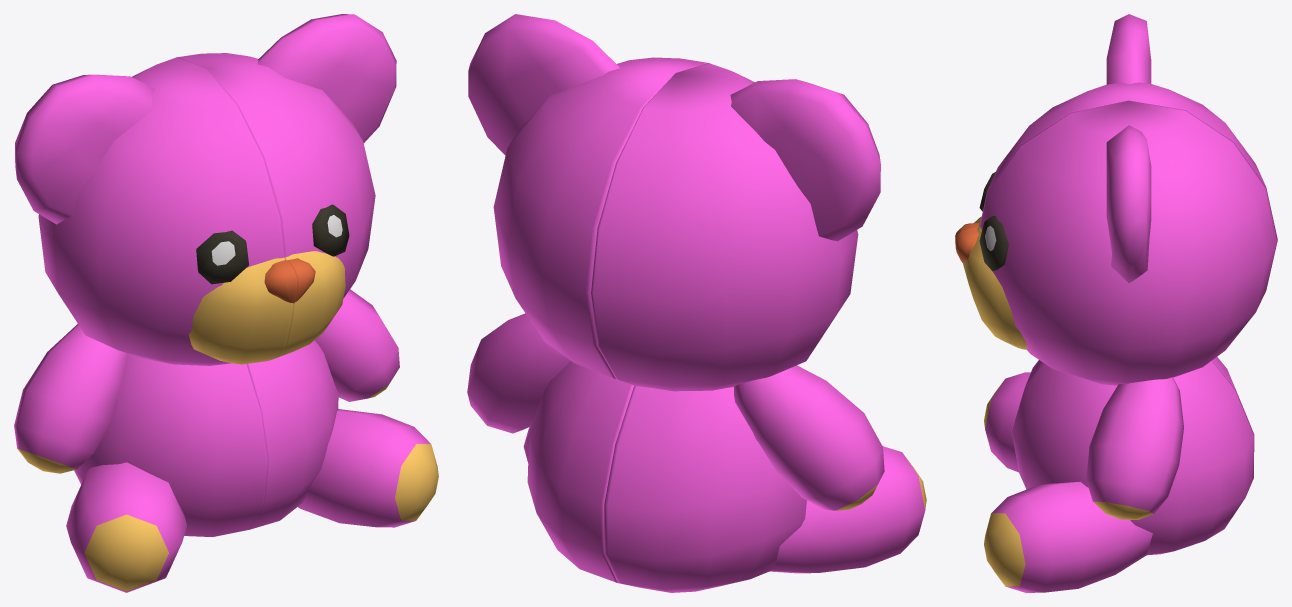
The model's file is SM_TeddyBear_02c.fbx.
3 renders of one model, left to right at view 1: azimuth 30°, elevation 25°; view 2: azimuth 150°, elevation 25°; view 3: azimuth 270°, elevation 25°, orthographic. The views are drawn at different scales.
Visible parts, largest first — view 1: TeddyBear_02, TeddyBear_01; view 2: TeddyBear_02, TeddyBear_01; view 3: TeddyBear_01, TeddyBear_02.
Part boxes in pixels (bbox=[...]): TeddyBear_02: bbox=[14, 57, 297, 592]; TeddyBear_01: bbox=[177, 14, 438, 529]; TeddyBear_02: bbox=[591, 63, 926, 592]; TeddyBear_01: bbox=[467, 14, 707, 582]; TeddyBear_01: bbox=[955, 100, 1277, 592]; TeddyBear_02: bbox=[955, 14, 1265, 472].
Size of the model in its own units: 30.85 by 37.06 by 23.83.
